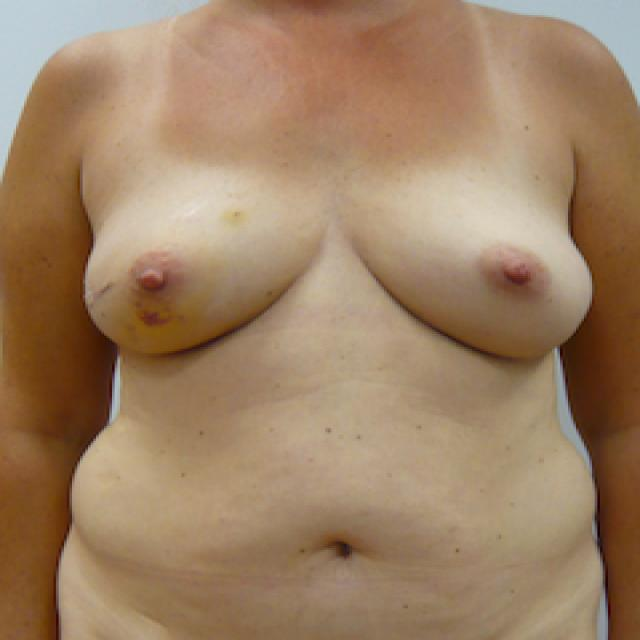Seno herido: (75, 132, 327, 378)
Seno ileso: (336, 132, 604, 378)
